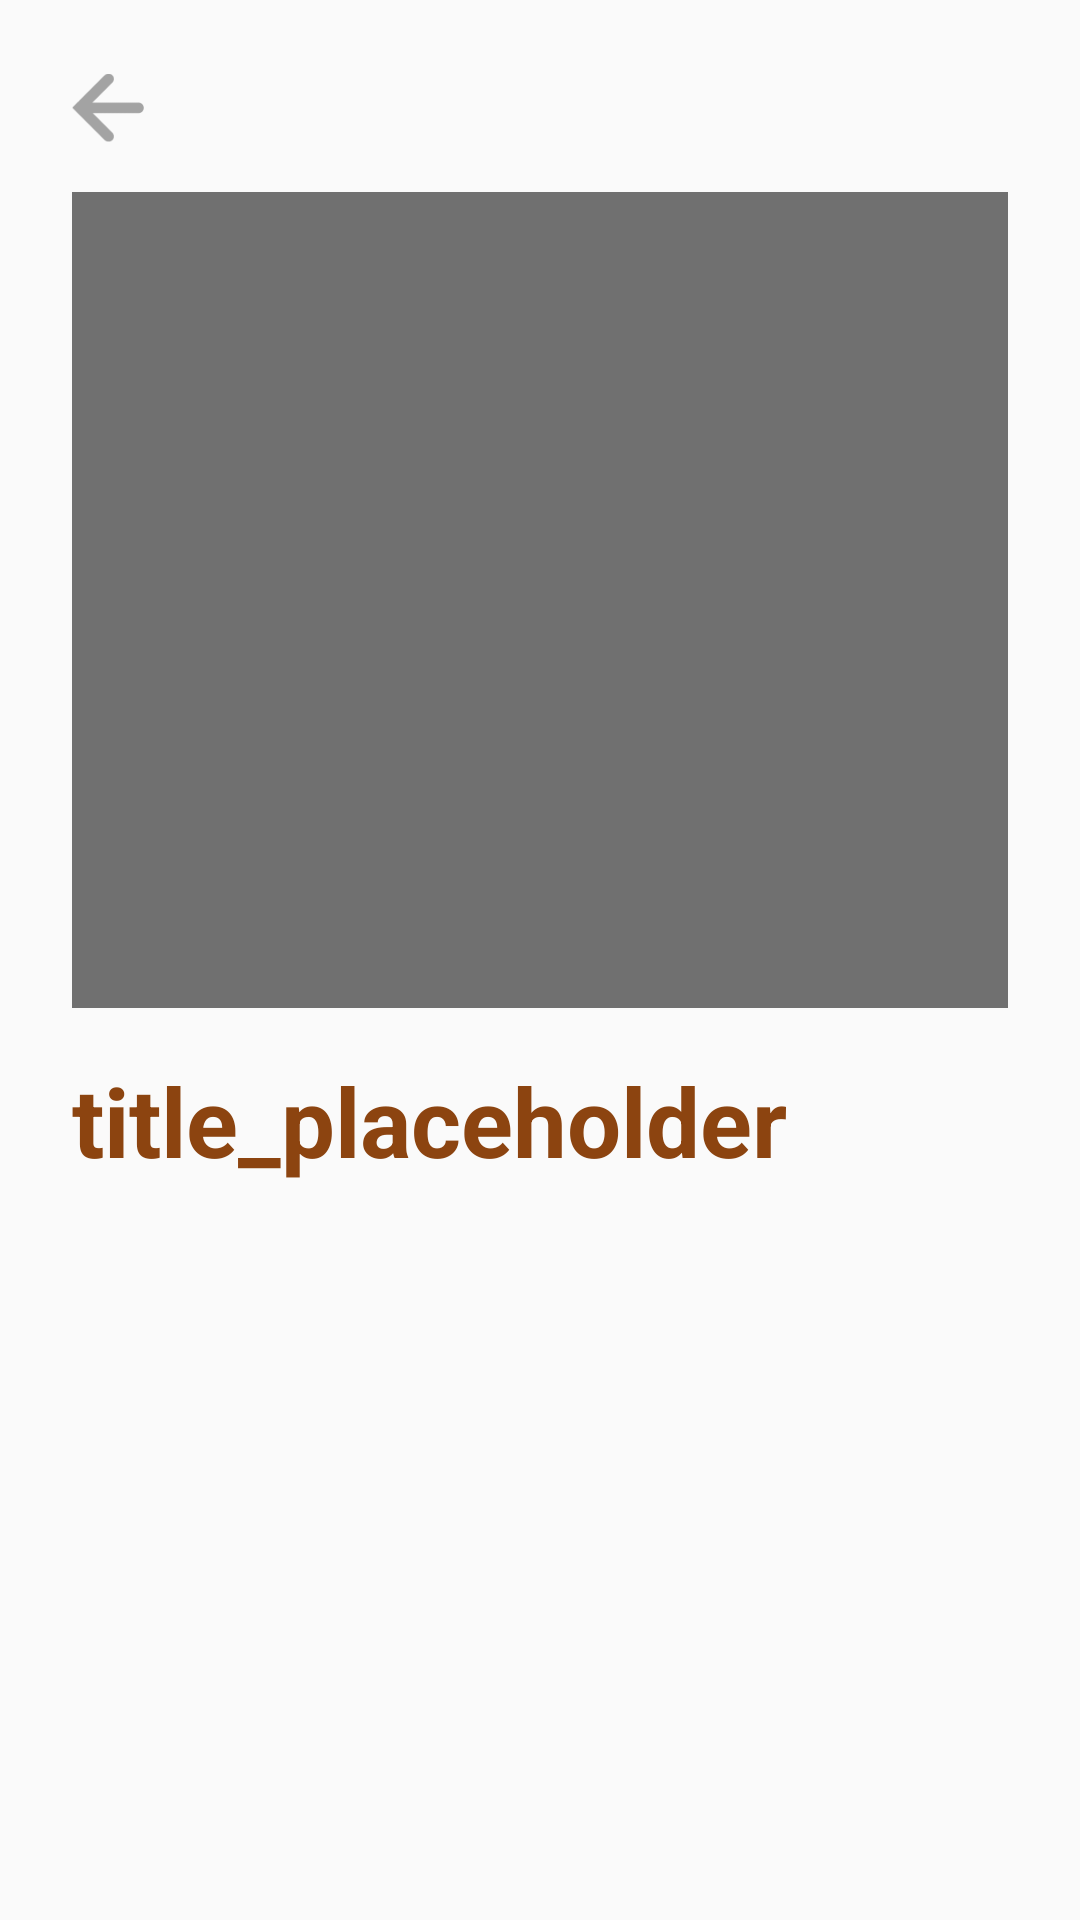

Named icons in this screenshot (1080px x 1920px) and their centers, [x,y]:
back: [108,108]
